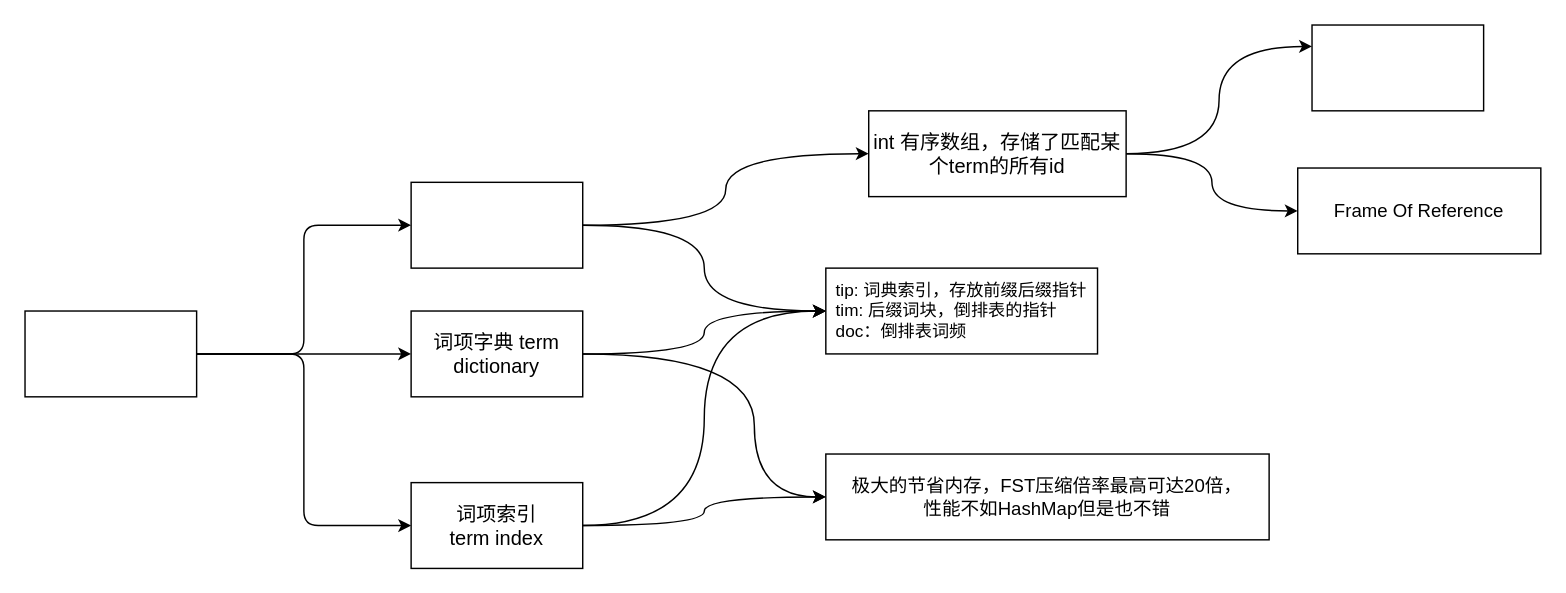
Some shapes in this 1566 by 593 pixel diagram are drawn without their labels. The centre of each missing label's shape, as x and y in pixels:
Roaring Bitmaps: point (1397, 67)
倒排索引: point (110, 353)
倒排表： posting list: point (496, 224)
